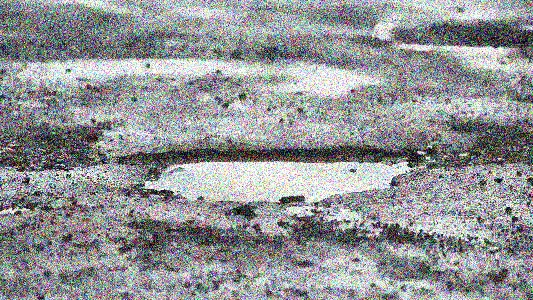pothole: (131, 143, 427, 204)
